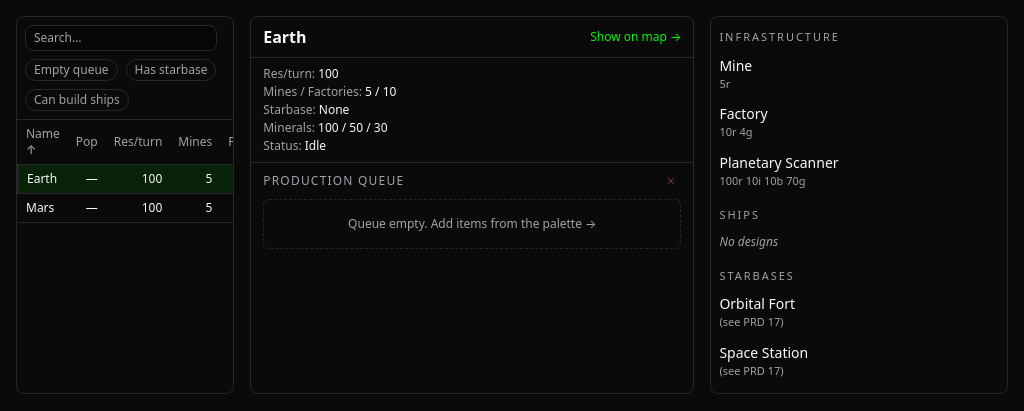
ProductionWorkspace › switching planets in the list updates the centre pane
This screenshot has width=1024, height=411.
Expected: the element with test id "centre-pane" shows "Earth", [263, 26, 307, 48]
// Click Mars row in the list
Step 1. Click the row "Mars — 100 5 10 — 0" → coordinates (197, 208), box [18, 194, 375, 222]
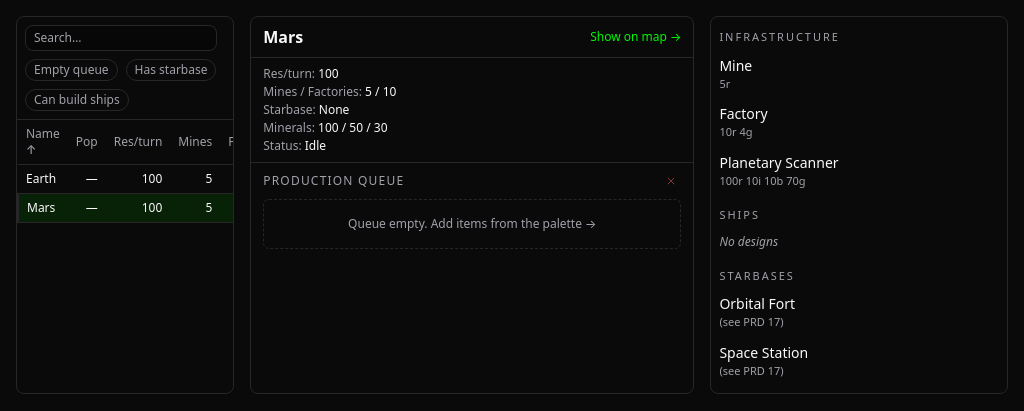
Expected: the element with test id "centre-pane" shows "Mars", [263, 26, 303, 48]
